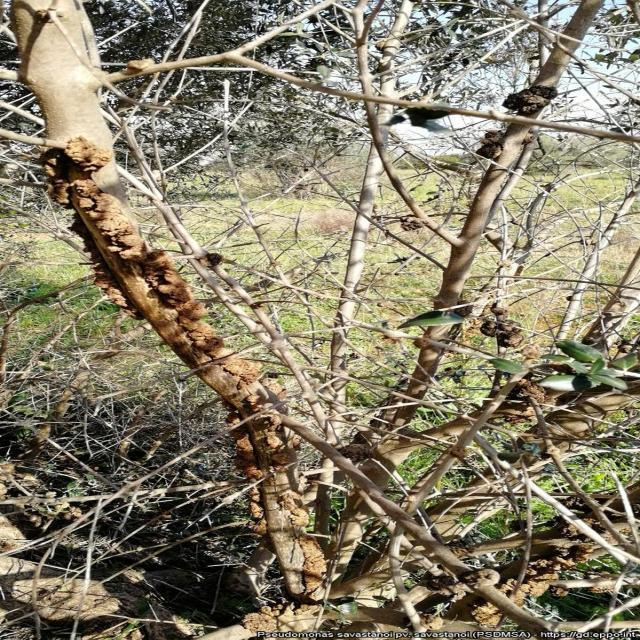Tuberculosis: (40, 138, 233, 364), (499, 542, 598, 606), (282, 491, 324, 601), (64, 136, 114, 176), (502, 85, 558, 116), (230, 429, 264, 480), (219, 356, 261, 390), (480, 317, 522, 348), (262, 432, 295, 468), (513, 379, 553, 406), (242, 606, 278, 634), (470, 600, 502, 628), (476, 130, 504, 161), (250, 488, 266, 536), (337, 442, 372, 463), (419, 614, 444, 632)
